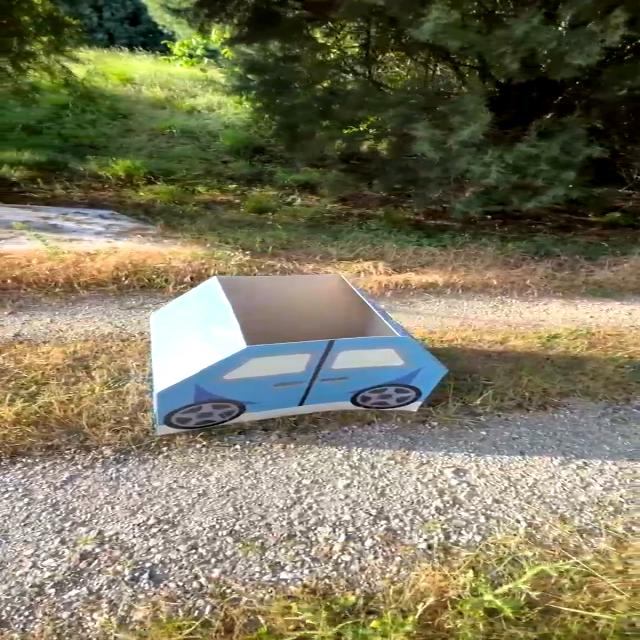blue_car: (97, 250, 455, 446)
